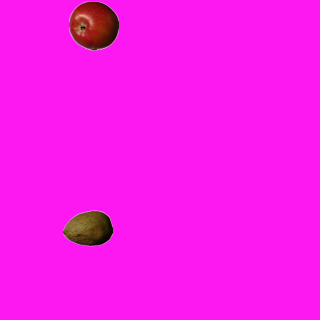Apple Braeburn: (68, 0, 118, 50)
Papaya: (62, 203, 112, 253)
